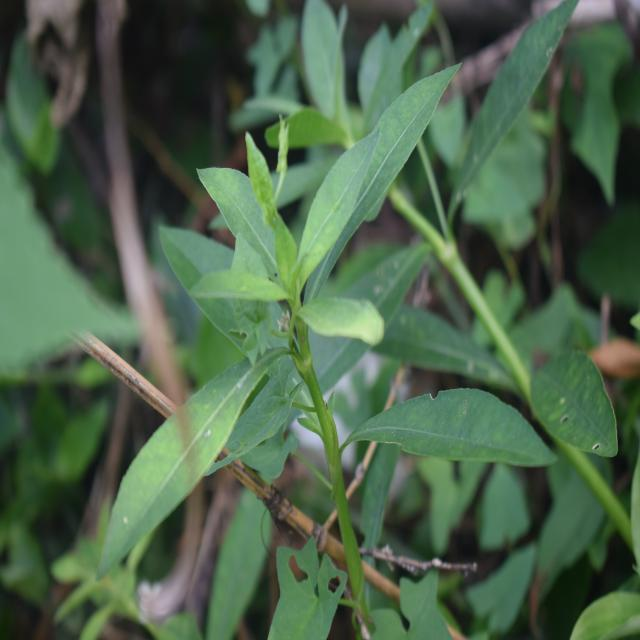Alligatorweed: (146, 120, 461, 540)
